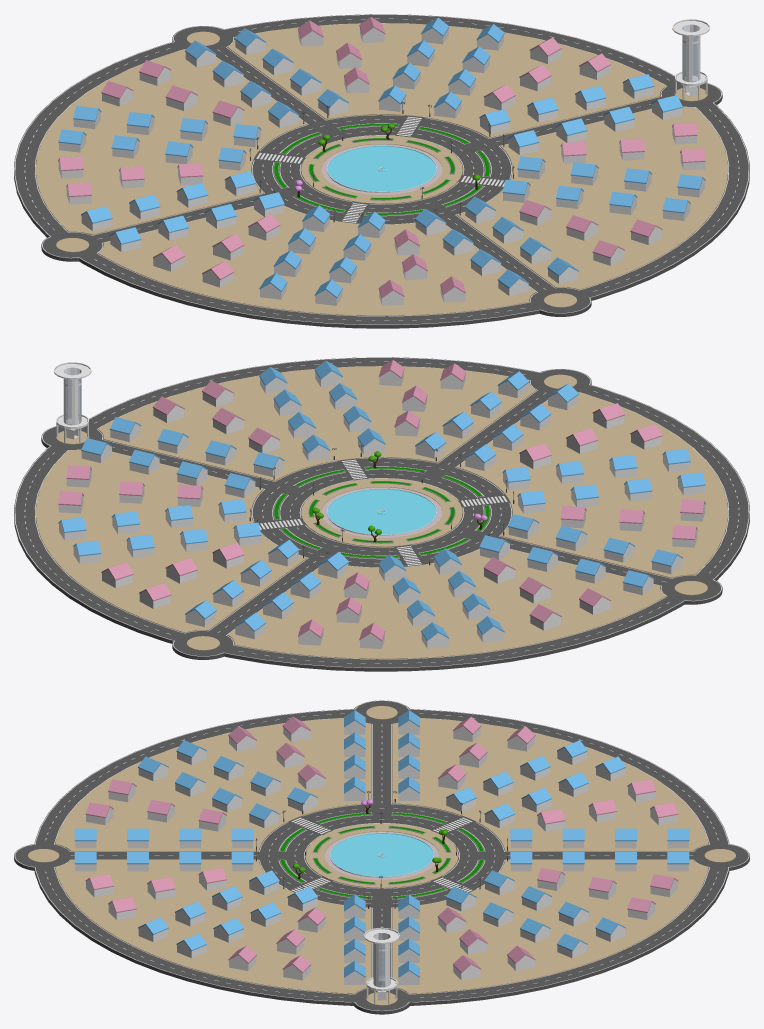
The model's file is roundtownmap.glb.
3 renders of one model, top to bottom at view 1: azimuth 30°, elevation 25°; view 2: azimuth 150°, elevation 25°; view 3: azimuth 270°, elevation 25°, orthographic. The views are drawn at different scales.
Visible parts, largest first — view 1: Circle.005, Road, House, House.002, House.004, House.003, House.001, outerfountain, water, peoplepathoutsideoffountain, Circle.007, Circle.008 (+9 smaller); view 2: Circle.005, Road, House, House.004, House.002, House.003, House.001, outerfountain, water, peoplepathoutsideoffountain, Circle.007, Circle.008 (+9 smaller); view 3: Circle.005, Road, House, House.003, House.004, House.001, House.002, outerfountain, water, peoplepathoutsideoffountain, Circle.007, Circle.010 (+9 smaller).
Boxes of the visible parts, box(x1,y1,x2,y2) form: Circle.005: box(36, 23, 727, 315); Road: box(14, 14, 749, 328); House: box(58, 17, 705, 305); House.002: box(119, 42, 644, 280); House.004: box(66, 20, 697, 302); House.003: box(58, 17, 705, 305); House.001: box(177, 67, 586, 255); outerfountain: box(327, 145, 436, 192); water: box(327, 146, 436, 191); peoplepathoutsideoffountain: box(301, 135, 462, 203); Circle.007: box(41, 26, 722, 316); Circle.008: box(672, 19, 709, 86); Circle.005: box(36, 366, 727, 658); Road: box(14, 357, 749, 671); House: box(58, 360, 705, 648); House.004: box(58, 360, 705, 648); House.002: box(119, 385, 644, 623); House.003: box(66, 363, 697, 645); House.001: box(177, 410, 586, 598); outerfountain: box(327, 488, 436, 535); water: box(327, 489, 436, 534); peoplepathoutsideoffountain: box(301, 478, 462, 546); Circle.007: box(41, 369, 722, 659); Circle.008: box(54, 362, 91, 429); Circle.005: box(55, 718, 708, 993); Road: box(34, 708, 729, 1005); House: box(74, 710, 689, 984); House.003: box(85, 716, 678, 980); House.004: box(85, 716, 678, 980); House.001: box(198, 764, 565, 932); House.002: box(147, 742, 616, 954); outerfountain: box(329, 832, 434, 877); water: box(330, 833, 433, 876); peoplepathoutsideoffountain: box(305, 823, 458, 888); Circle.007: box(14, 700, 749, 1014); Circle.010: box(35, 709, 728, 1002).
Bounding box in the file's own units: 422 × 42.25 × 422.
